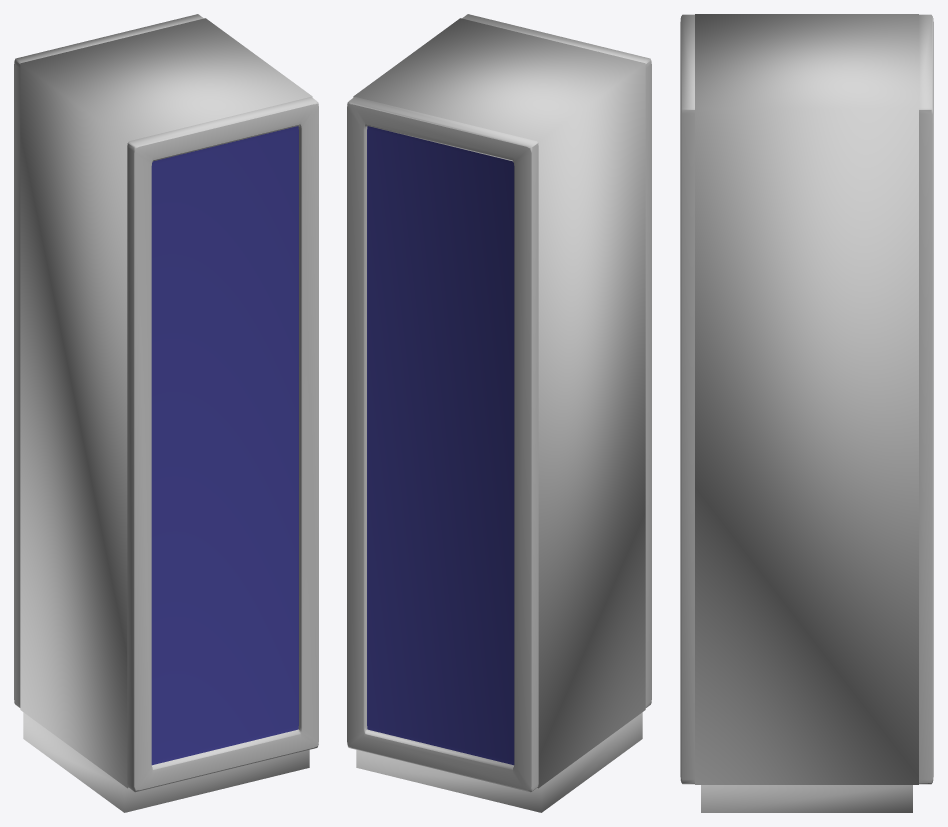
File: serverschrank_1.fbx
3 renders of one model, left to right at view 1: azimuth 30°, elevation 25°; view 2: azimuth 150°, elevation 25°; view 3: azimuth 270°, elevation 25°, orthographic. The views are drawn at different scales.
Visible parts, largest first — view 1: serverschrank_body_front_door, serverschrank_body, serverschrank_body_back_door; view 2: serverschrank_body_back_door, serverschrank_body, serverschrank_body_front_door; view 3: serverschrank_body, serverschrank_body_front_door, serverschrank_body_back_door.
Boxes of the visible parts, x1,y1,x2,y2 form: serverschrank_body_front_door: [127, 97, 318, 792]; serverschrank_body: [20, 18, 312, 812]; serverschrank_body_back_door: [14, 14, 203, 707]; serverschrank_body_back_door: [347, 97, 538, 792]; serverschrank_body: [353, 18, 645, 812]; serverschrank_body_front_door: [462, 14, 651, 707]; serverschrank_body: [695, 14, 918, 812]; serverschrank_body_front_door: [680, 14, 694, 784]; serverschrank_body_back_door: [919, 14, 933, 784].
Bounding box in the file's own units: 3 × 3.39 × 10.41.
